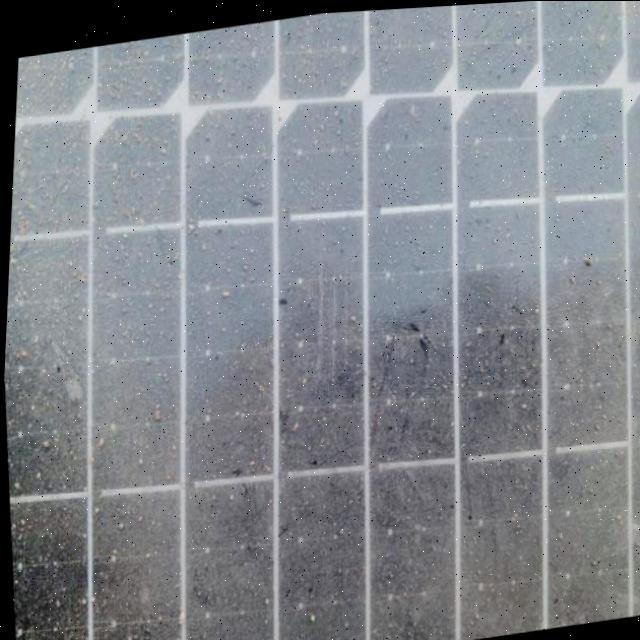Anomaly Solar Panel: (2, 0, 640, 640)
Surface Contaminant: (2, 0, 640, 640)
